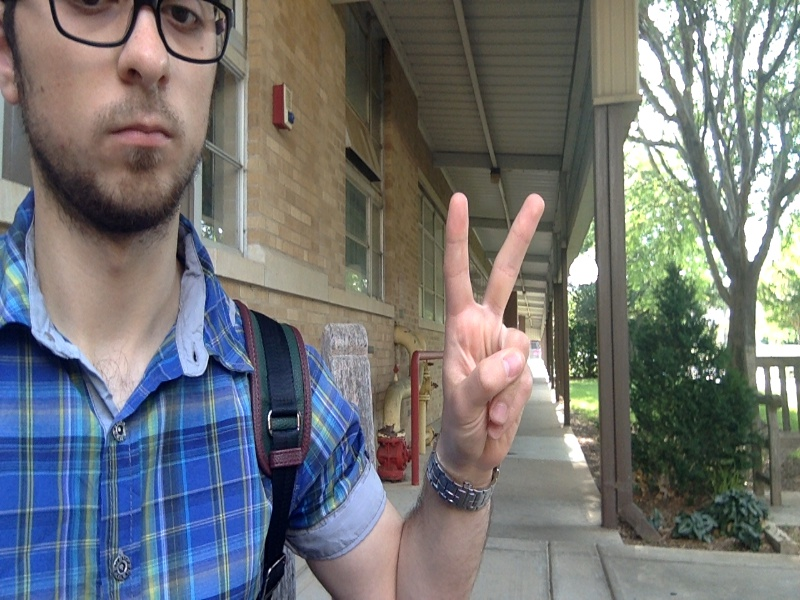2-hand: (445, 188, 548, 473)
